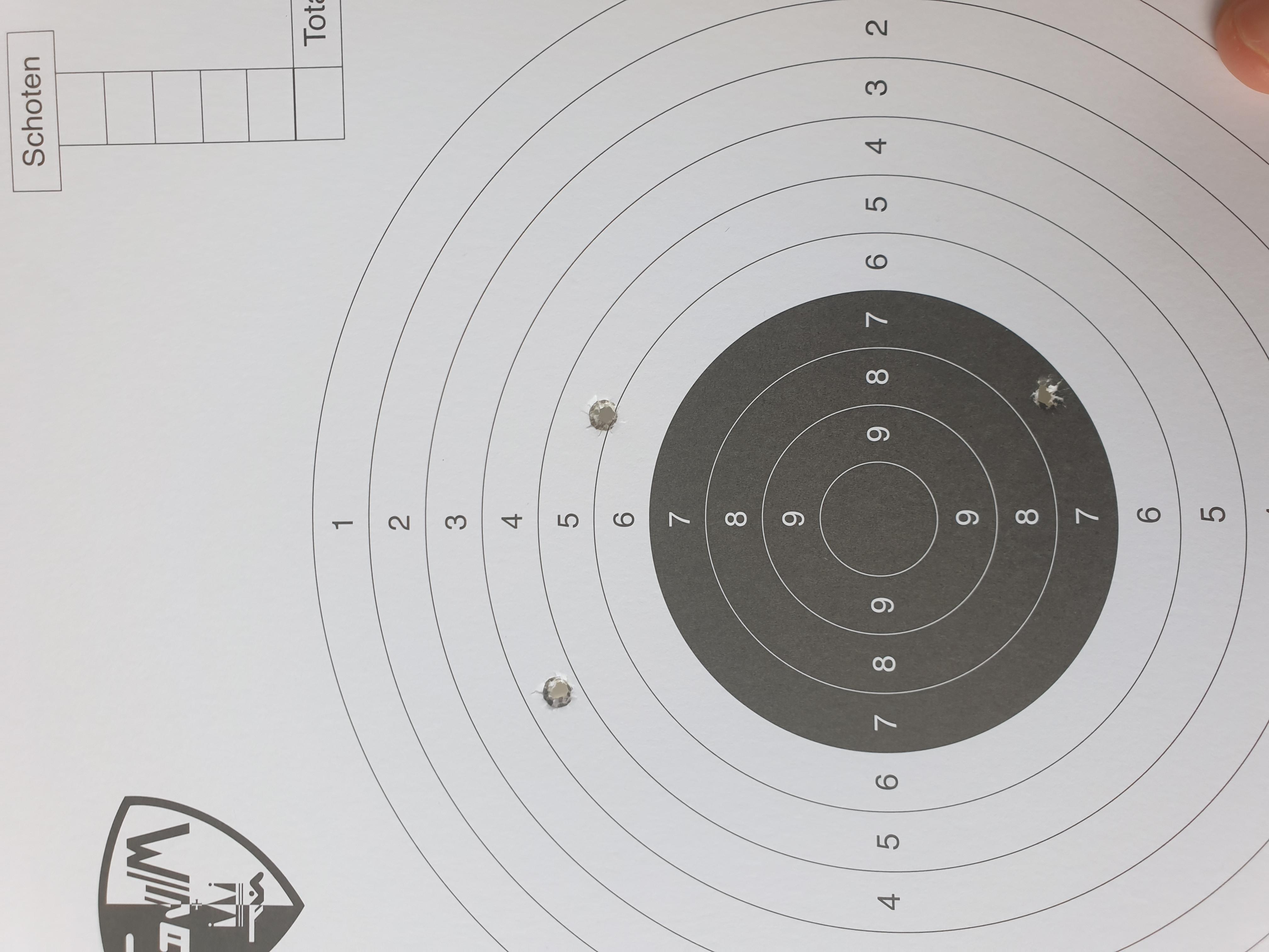hole: (682, 436, 744, 469), (717, 771, 769, 802), (321, 400, 371, 432)
